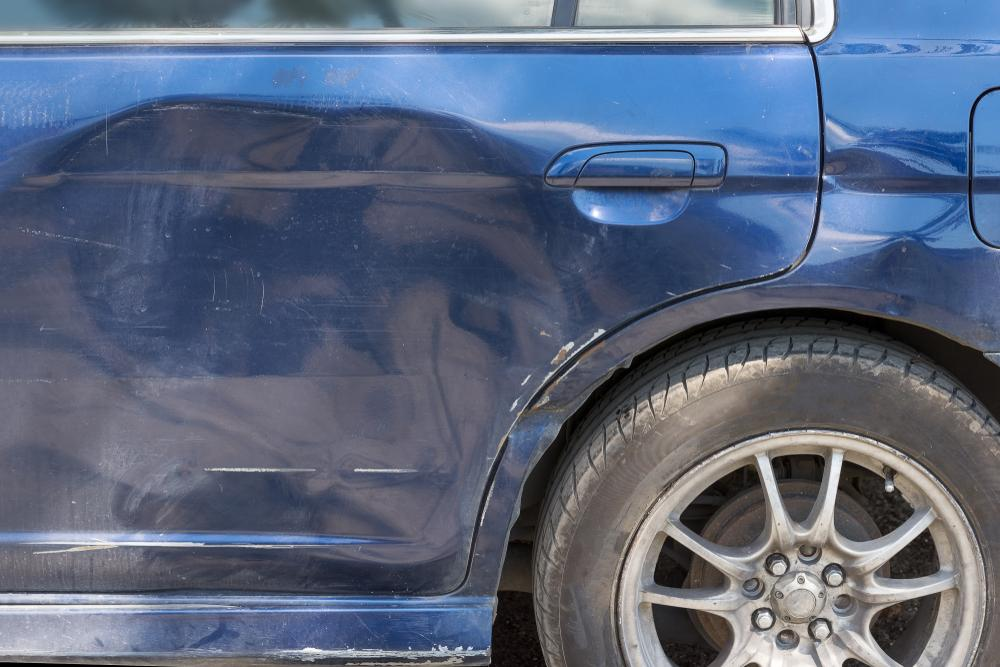dent: (9, 102, 575, 554), (797, 117, 967, 315)
